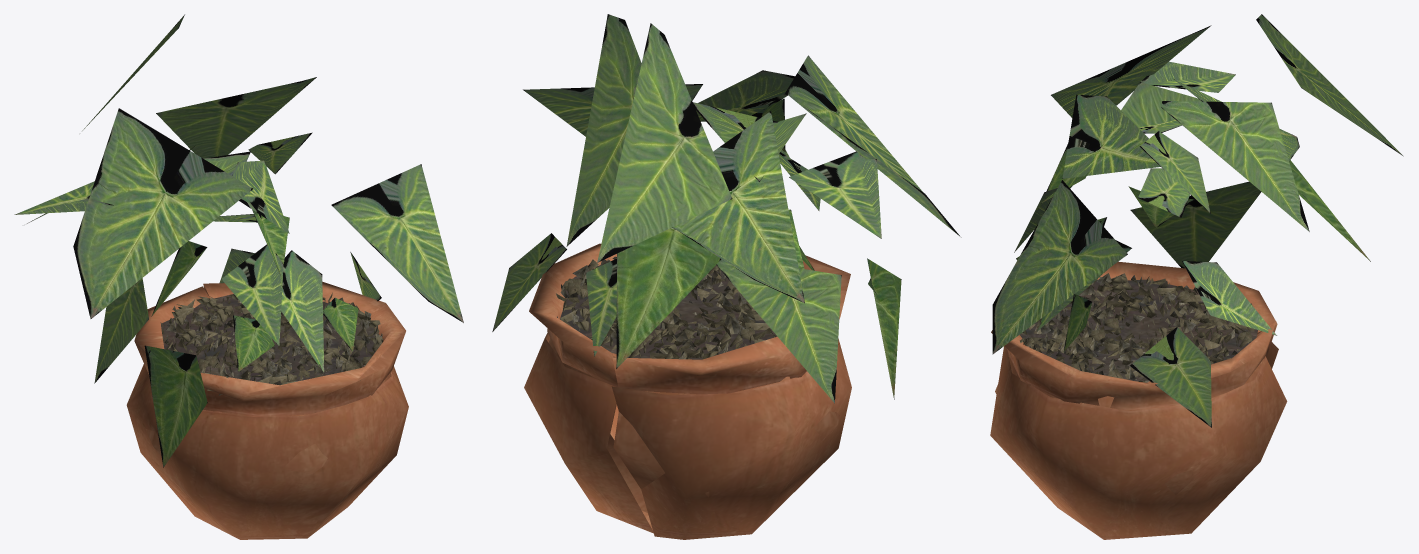
File: potted_plant_02.gltf
3 views of the same model, side by side, from view 1: azimuth 30°, elevation 25°; view 2: azimuth 150°, elevation 25°; view 3: azimuth 270°, elevation 25° (orthographic). The views are drawn at different scales.
Visible parts, largest first — view 1: potted_plant_02; view 2: potted_plant_02; view 3: potted_plant_02.
Part boxes in pixels (box(x1,y1,x2,y2)): potted_plant_02: box(14, 14, 463, 539); potted_plant_02: box(492, 14, 961, 539); potted_plant_02: box(990, 14, 1403, 539).
Size of the model in its own units: 0.7021 by 0.8768 by 0.6762.
1 material, 1 textured.
